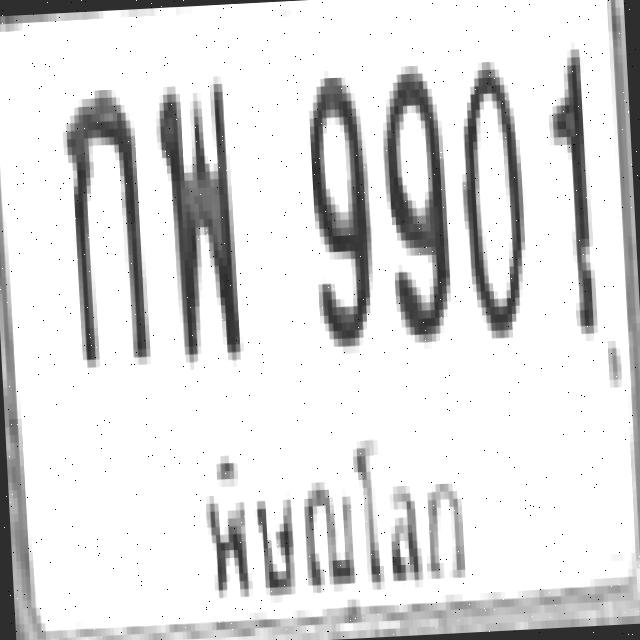0: (450, 53, 528, 332)
1: (540, 42, 594, 336)
10GorGai: (58, 80, 150, 368)
39PhorPan: (154, 72, 240, 360)
9: (374, 57, 448, 336), (298, 69, 372, 348)
Phitsanulok: (189, 412, 486, 636)
